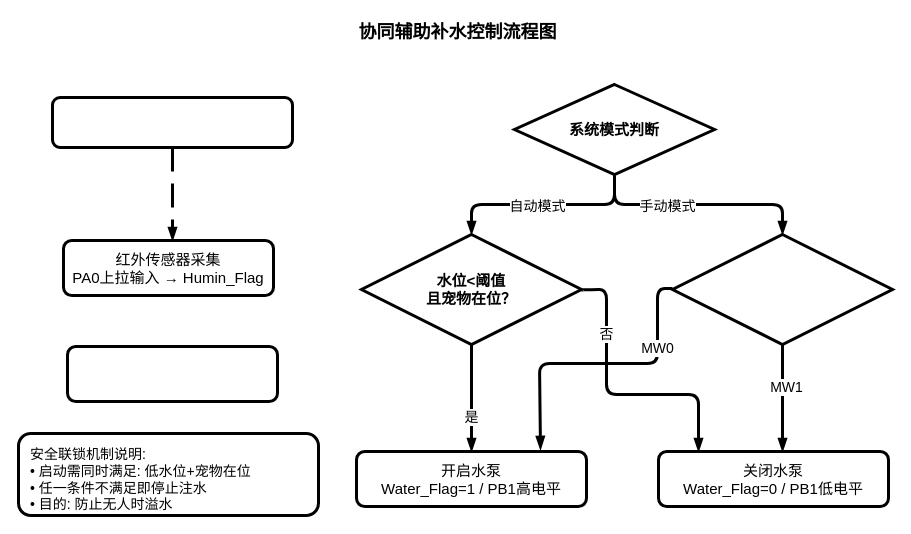
Some shapes in this 911 by 534 pixel diagram are drawn without their labels. The shapes that lost their labels are listed below. From the top down, each one's box as (x1, y1, x2, y2) in pixels, then its label:
(50, 96, 294, 148): 状态上报至APP (P字段 = Water_Flag)
(670, 232, 894, 346): 收到何种指令？ (MW0/MW1或按键)
(66, 344, 278, 402): ADC水位采集 PA1模拟输入 → 水位百分比
